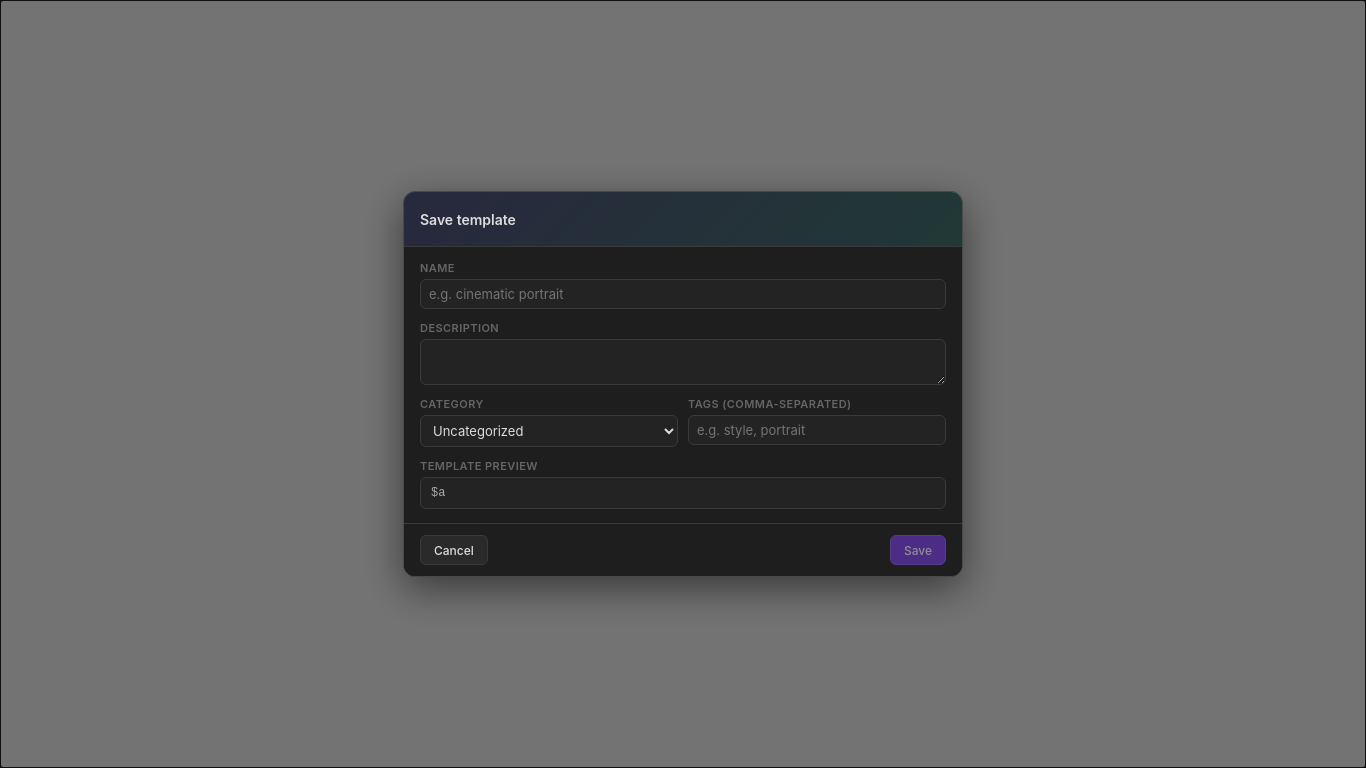
it: SaveTemplateModal › detects same-name + offers update-existing AND save-as-new
Step 1. Type "existing" into the field with test id "save-tpl-name" → (683, 294), box x1=420 y1=279 x2=946 y2=309
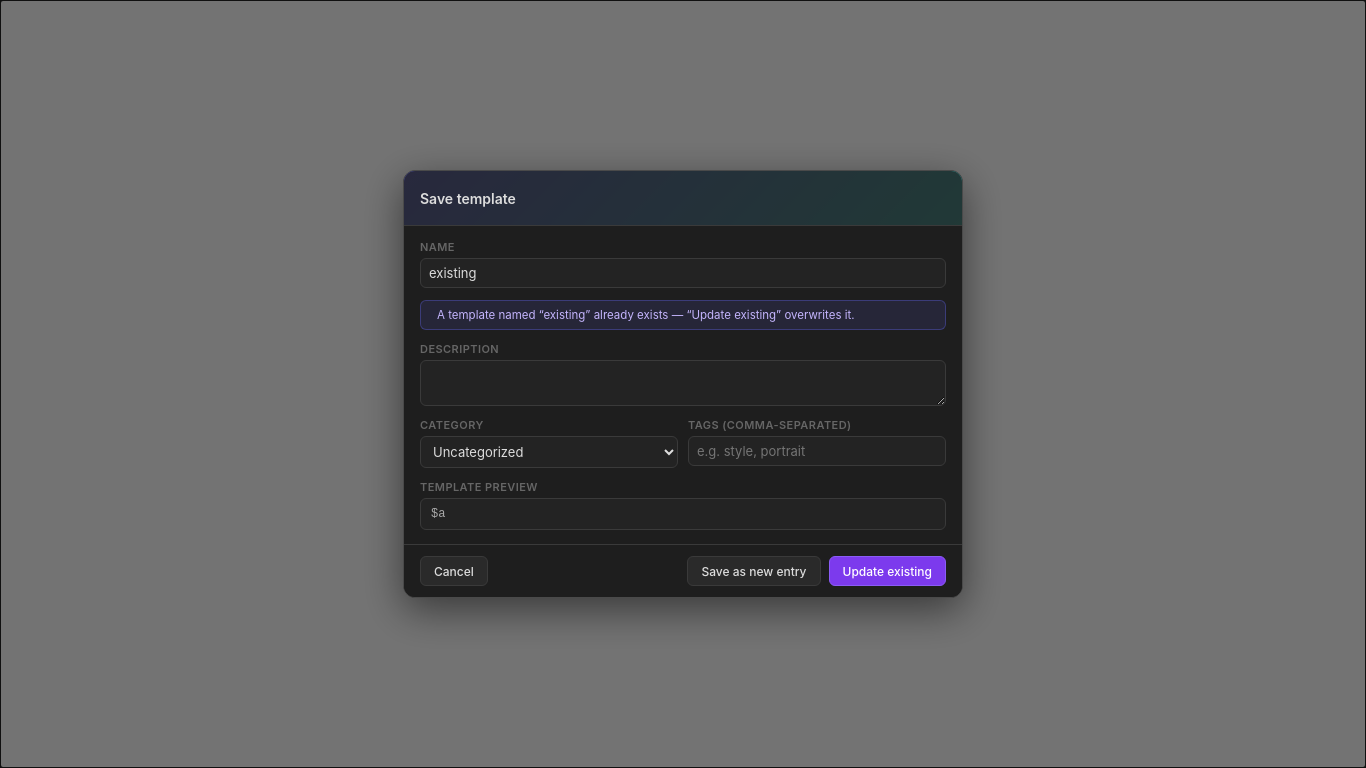
Now the element with test id "save-tpl-update-existing" is shown, box x1=420 y1=300 x2=946 y2=330
Now the button with test id "save-tpl-save-new" is shown, box x1=687 y1=556 x2=820 y2=586
